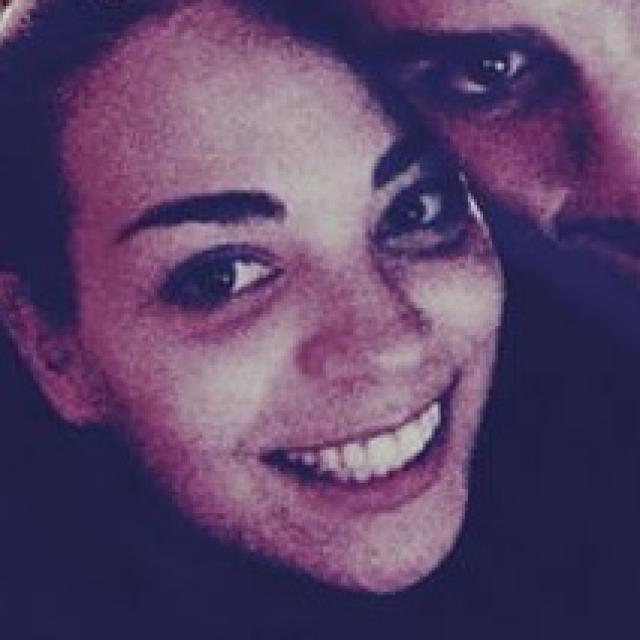Normal: (57, 12, 503, 594)
